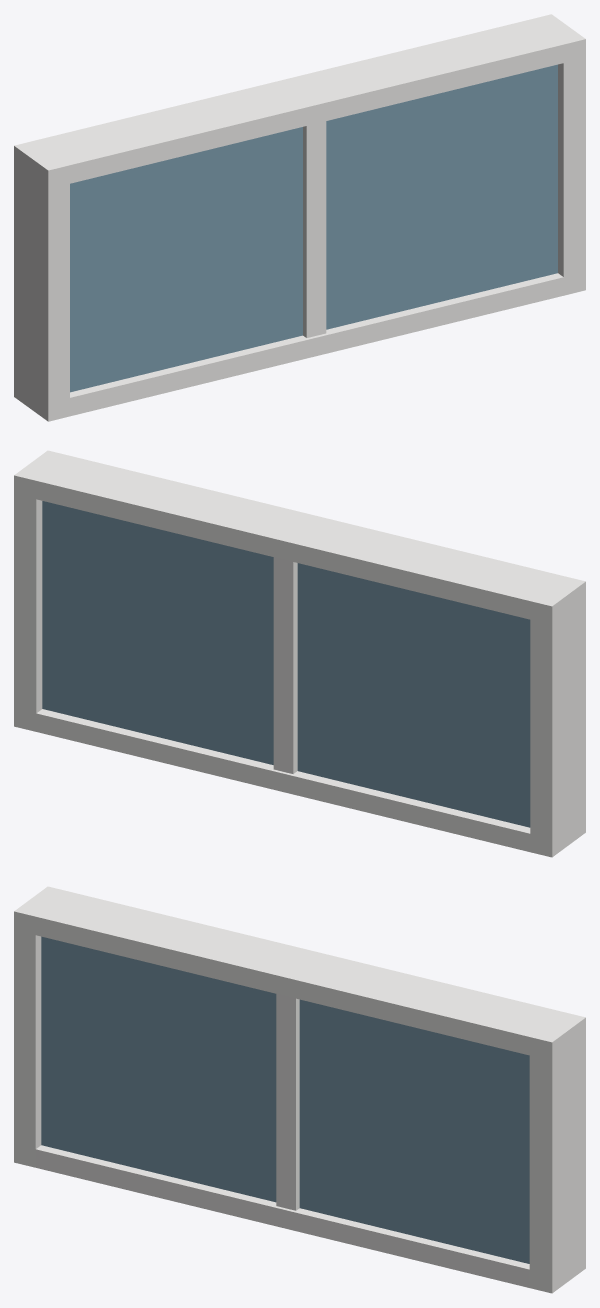
Rendered from Window_15.fbx.
3 renders of one model, top to bottom at view 1: azimuth 30°, elevation 25°; view 2: azimuth 150°, elevation 25°; view 3: azimuth 330°, elevation 25°, orthographic.
Visible parts, largest first — view 1: Window_15; view 2: Window_15; view 3: Window_15.
Boxes of the visible parts, bbox=[...] form: Window_15: bbox=[14, 14, 585, 421]; Window_15: bbox=[14, 450, 585, 857]; Window_15: bbox=[14, 886, 585, 1293].
Size of the model in its own units: 219 by 24.28 by 97.78.
